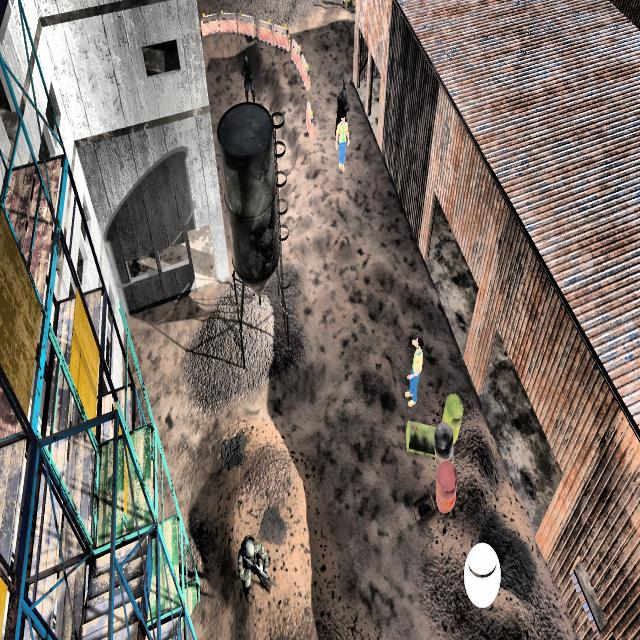bad: (233, 524, 275, 602), (240, 45, 258, 105), (331, 76, 352, 120)
good: (403, 325, 424, 412), (338, 117, 349, 173)
